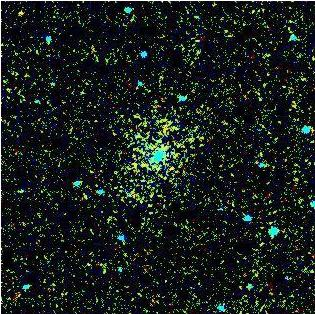star: (8, 1, 38, 31)
